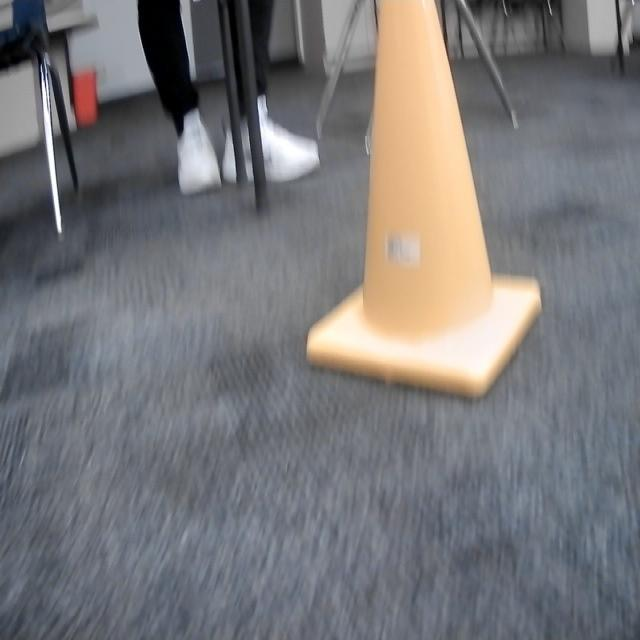cone: (298, 1, 543, 402)
